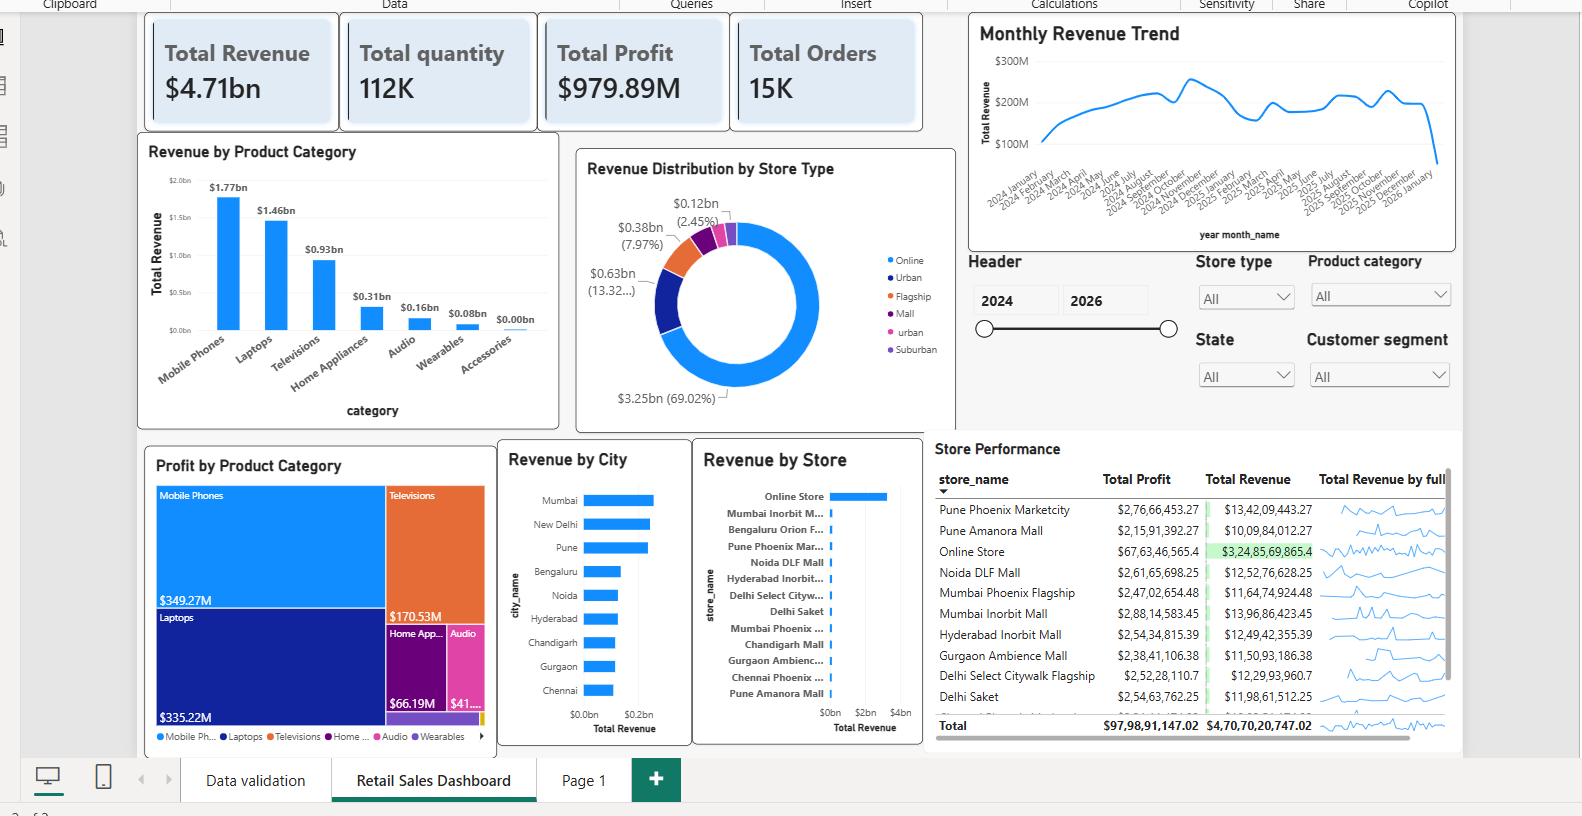

The dashboard page shown, as its layout file describes it:
{"tool":"powerbi","page":{"name":"Retail Sales Dashboard","canvas":[1920,1080],"ordinal":1},"visuals":[{"type":"cardVisual","fields":{"Data":["Fact Sales.Total Revenue"]},"box":[10.3,0,282,172.9],"z":0},{"type":"cardVisual","fields":{"Data":["Fact Sales.Total Profit"]},"box":[578.4,0,279.9,172.9],"z":1000},{"type":"cardVisual","fields":{"Data":["Fact Sales.Total Orders"]},"box":[858.3,0,279.9,172.9],"z":2000},{"type":"cardVisual","fields":{"Data":["Fact Sales.Total quantity"]},"box":[292.3,0,286.1,172.9],"z":3000},{"type":"clusteredColumnChart","title":"Revenue by Product Category","fields":{"Category":["Dim Product.category","Dim Product.subcategory"],"Y":["Fact Sales.Total Revenue"]},"box":[0,172.9,611.3,430.2],"z":4000},{"type":"treemap","title":"Profit by Product Category","fields":{"Group":["Dim Product.category"],"Values":["Fact Sales.Total Profit"]},"box":[10.9,628,510.3,452.4],"z":5000},{"type":"clusteredBarChart","title":"Revenue by Store","fields":{"Category":["Dim Store.store_name"],"Y":["Fact Sales.Total Revenue"]},"box":[803.5,617.1,334.8,443.4],"z":6000},{"type":"lineChart","title":" Monthly Revenue Trend","fields":{"Category":["Dim Date.year","Dim Date.month_name"],"Y":["Fact Sales.Total Revenue"]},"box":[1203.4,0,705.8,347.5],"z":7000},{"type":"donutChart","title":"Revenue Distribution by Store Type","fields":{"Category":["Dim Store.store_type"],"Y":["Fact Sales.Total Revenue"]},"box":[636,198,550,412],"z":8000},{"type":"clusteredBarChart","title":"Revenue by City","fields":{"Category":["Dim City.city_name"],"Y":["Fact Sales.Total Revenue"]},"box":[521.2,618.9,282.3,443.4],"z":9000},{"type":"slicer","title":"Product category","fields":{"Values":["Dim Product.category"]},"box":[1695.7,347.5,212,111.1],"z":10000},{"type":"slicer","title":"Store type","fields":{"Values":["Dim Store.store_type"]},"box":[1532.8,347.5,148.2,111.1],"z":11000},{"type":"slicer","title":"Customer segment","fields":{"Values":["Dim Customer.customer_segment"]},"box":[1693.8,459.7,212,94.7],"z":12000},{"type":"slicer","title":"State","fields":{"Values":["Dim State.state_name"]},"box":[1532.8,459.7,148.2,94.7],"z":13000},{"type":"slicer","title":"Header","fields":{"Values":["Dim Date.year"]},"box":[1203.4,347.5,306,206],"z":14000},{"type":"tableEx","title":"Store Performance","fields":{"Values":["Dim Store.store_name","Fact Sales.Total Profit","Fact Sales.Total Revenue","SparklineData(Fact Sales.Total Revenue_[Dim Date.full_date])"]},"box":[1138.3,604.4,781.8,468.7],"z":14001}]}

Visuals, with their boxes on the page's 1920x1080 design canvas (x1, y1, x2, y2). These are canvas units, not pixel positions in the 1582x816 screenshot, which may show the page scaled, cropped or inside an application window:
cardVisual - Fact Sales.Total Revenue: bbox(10, 0, 292, 173)
cardVisual - Fact Sales.Total Profit: bbox(578, 0, 858, 173)
cardVisual - Fact Sales.Total Orders: bbox(858, 0, 1138, 173)
cardVisual - Fact Sales.Total quantity: bbox(292, 0, 578, 173)
"Revenue by Product Category" clusteredColumnChart: bbox(0, 173, 611, 603)
"Profit by Product Category" treemap: bbox(11, 628, 521, 1080)
"Revenue by Store" clusteredBarChart: bbox(804, 617, 1138, 1060)
" Monthly Revenue Trend" lineChart: bbox(1203, 0, 1909, 348)
"Revenue Distribution by Store Type" donutChart: bbox(636, 198, 1186, 610)
"Revenue by City" clusteredBarChart: bbox(521, 619, 804, 1062)
"Product category" slicer: bbox(1696, 348, 1908, 459)
"Store type" slicer: bbox(1533, 348, 1681, 459)
"Customer segment" slicer: bbox(1694, 460, 1906, 554)
"State" slicer: bbox(1533, 460, 1681, 554)
"Header" slicer: bbox(1203, 348, 1509, 554)
"Store Performance" tableEx: bbox(1138, 604, 1920, 1073)
